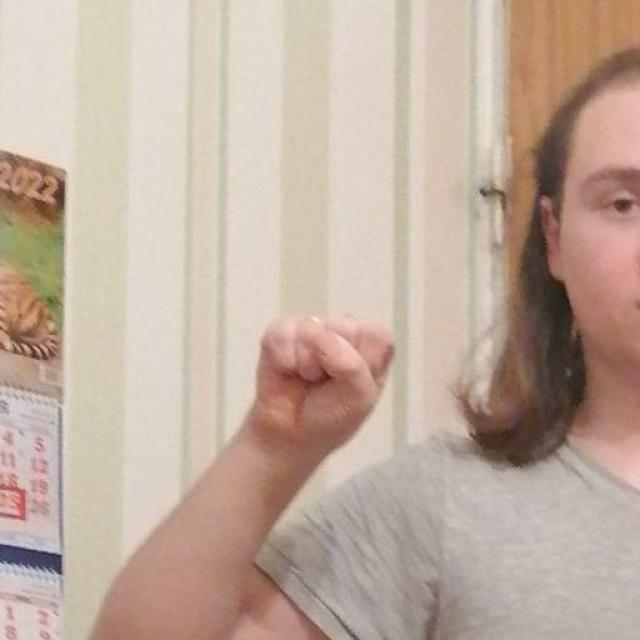hand: (245, 308, 396, 464)
